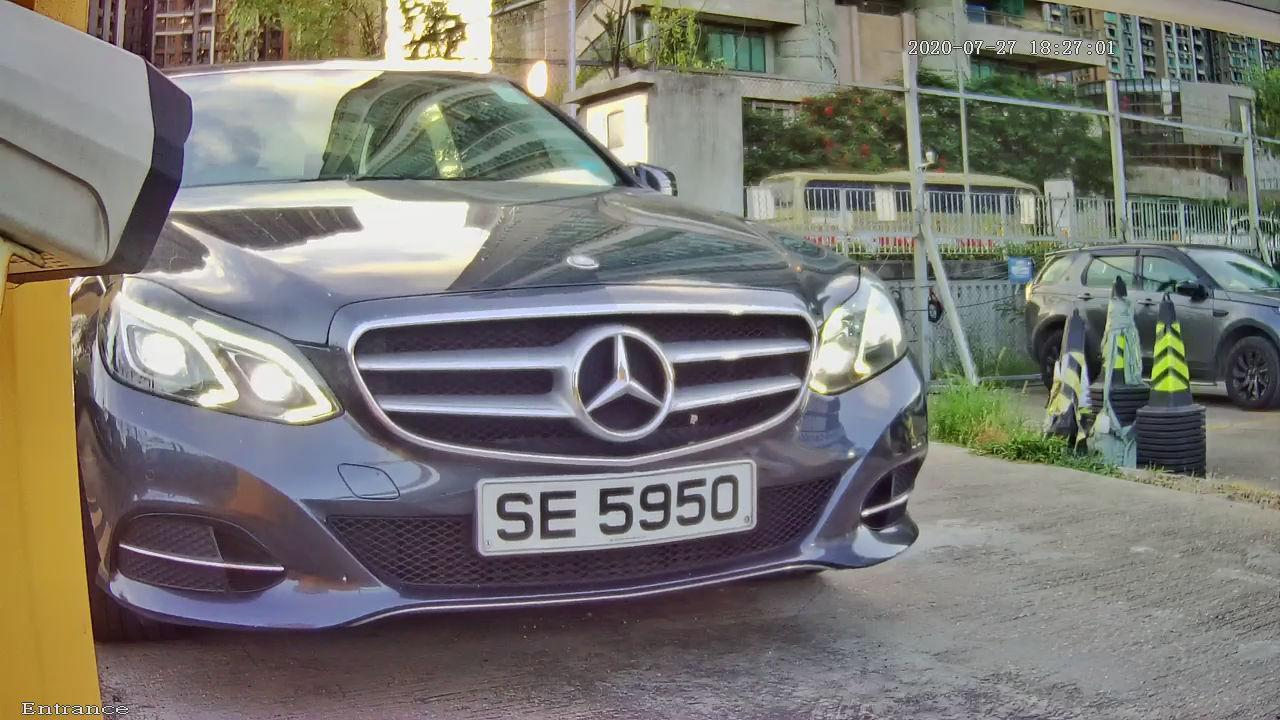privatecar: (52, 36, 989, 640)
